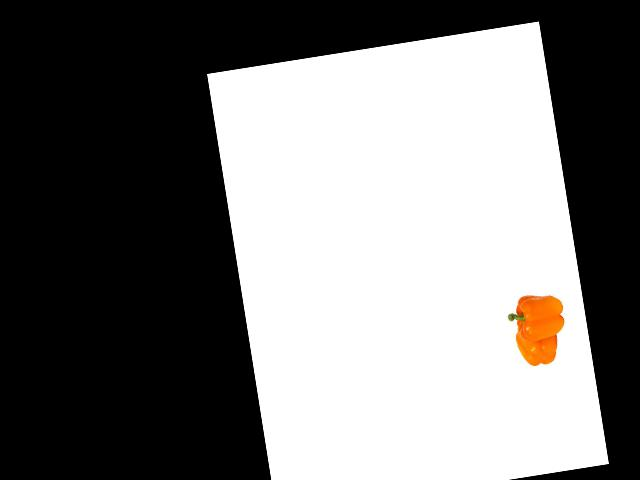bell_pepper: (512, 320, 566, 371)
